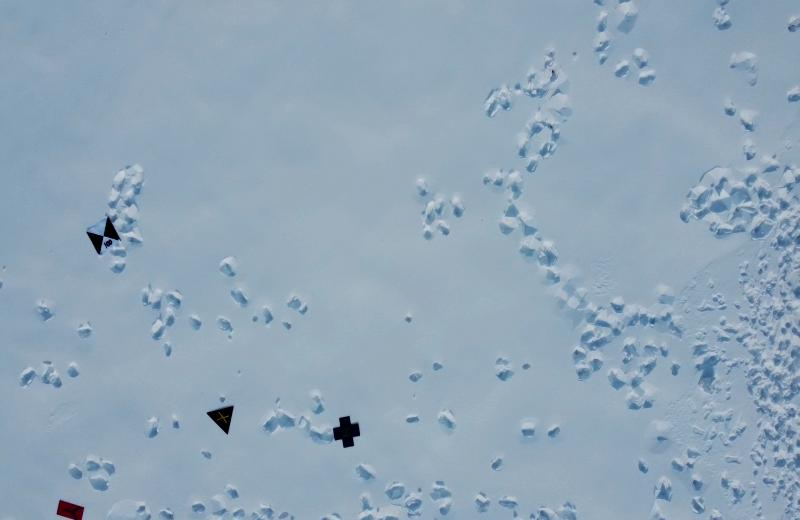Cross: (330, 416, 364, 454)
Rectangle: (53, 495, 87, 520)
Triangle: (205, 404, 238, 441)
